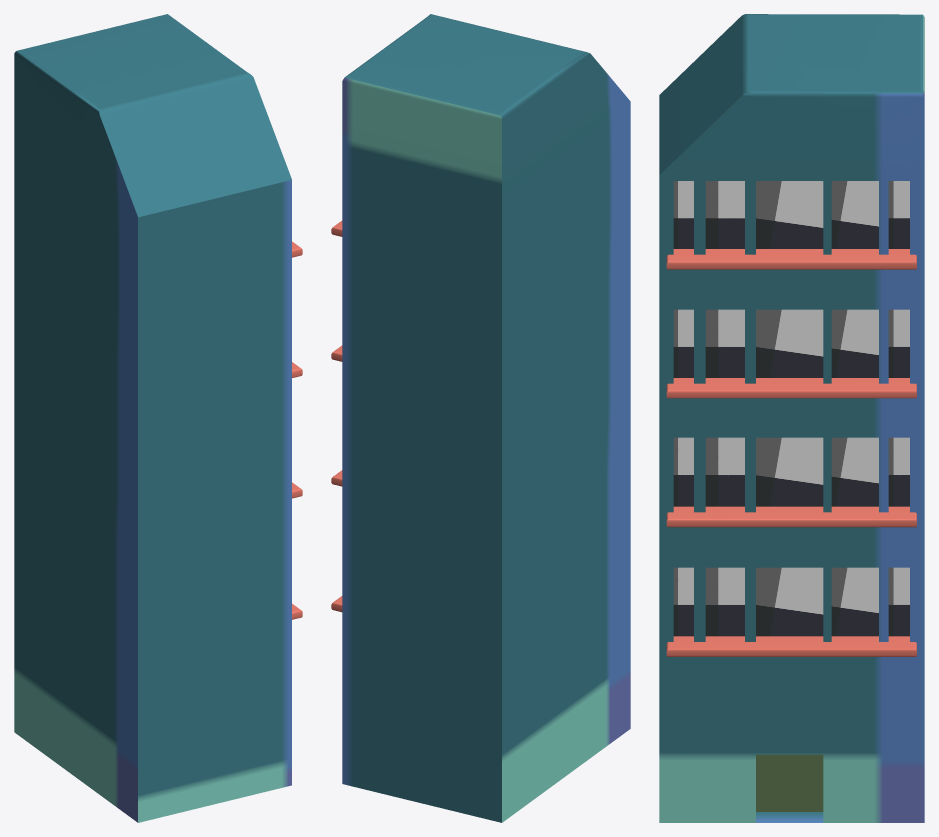
Rendered from BuildingTall_02C.fbx.
3 renders of one model, left to right at view 1: azimuth 30°, elevation 25°; view 2: azimuth 150°, elevation 25°; view 3: azimuth 270°, elevation 25°, orthographic. The views are drawn at different scales.
Visible parts, largest first — view 1: polySurface1078; view 2: polySurface1078; view 3: polySurface1078.
Boxes of the visible parts, x1=… form: polySurface1078: x1=14, y1=14, x2=302, y2=822; polySurface1078: x1=331, y1=14, x2=630, y2=822; polySurface1078: x1=659, y1=14, x2=924, y2=822.
Bounding box in the file's own units: 4.03 × 15.63 × 5.14.
